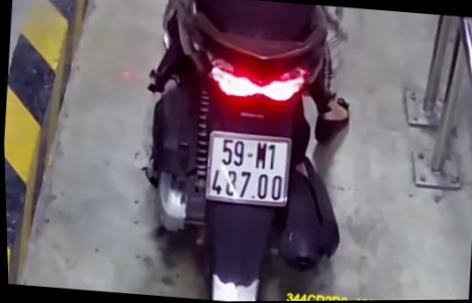LP: (201, 127, 293, 207)
